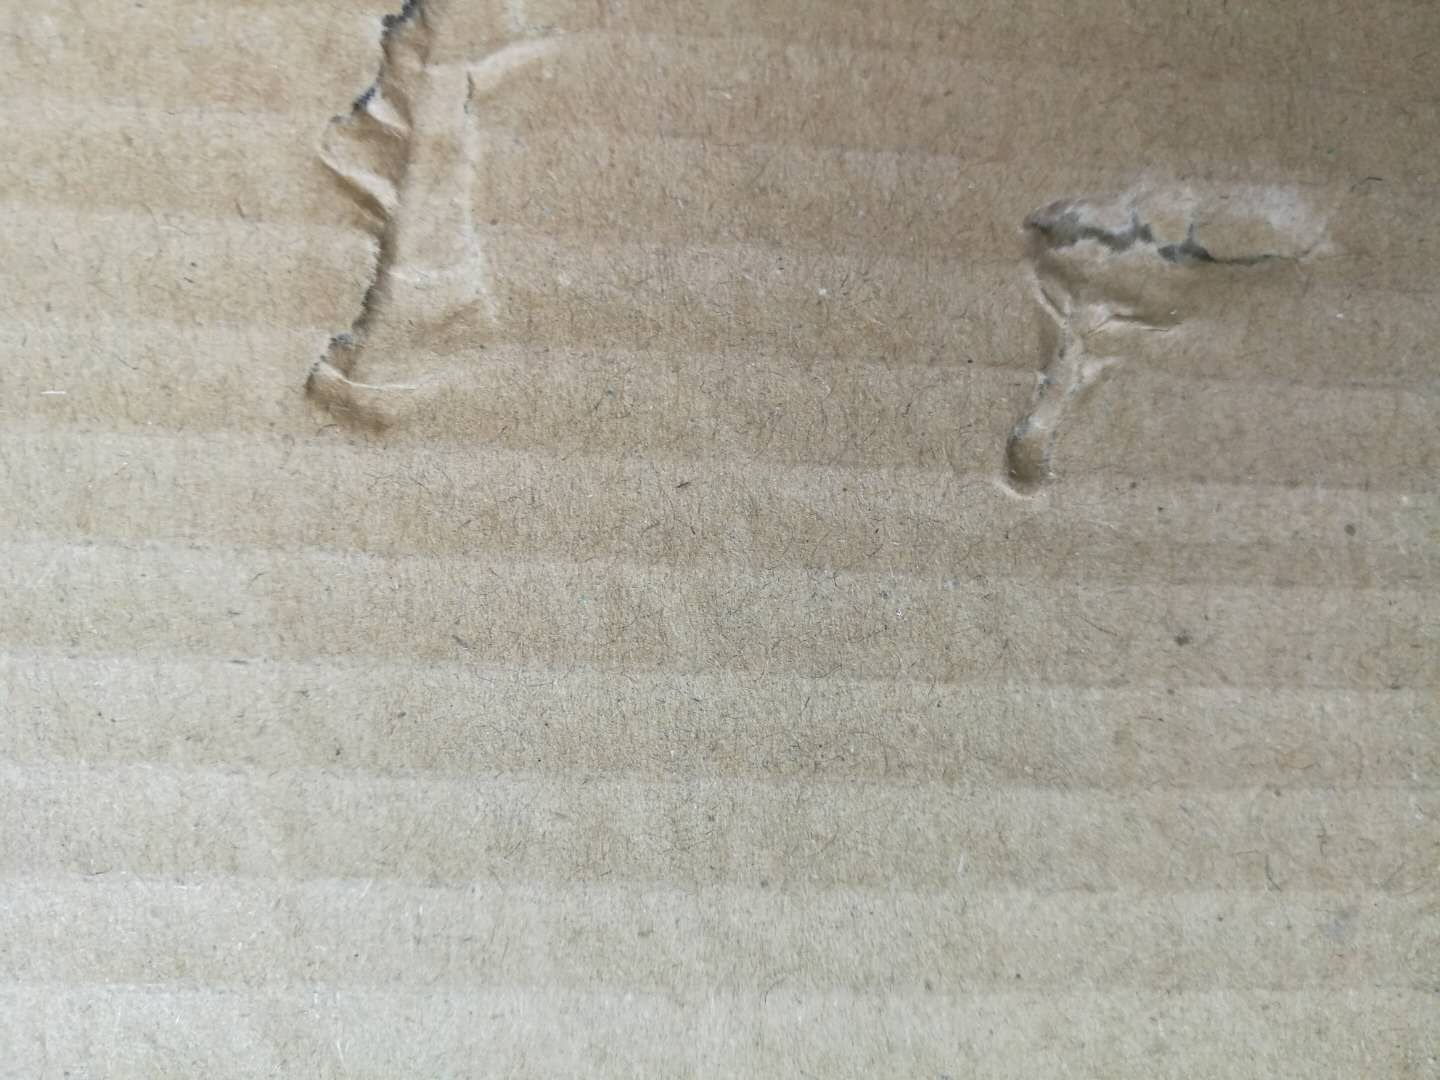defect: (962, 119, 1386, 541), (239, 1, 603, 469)
